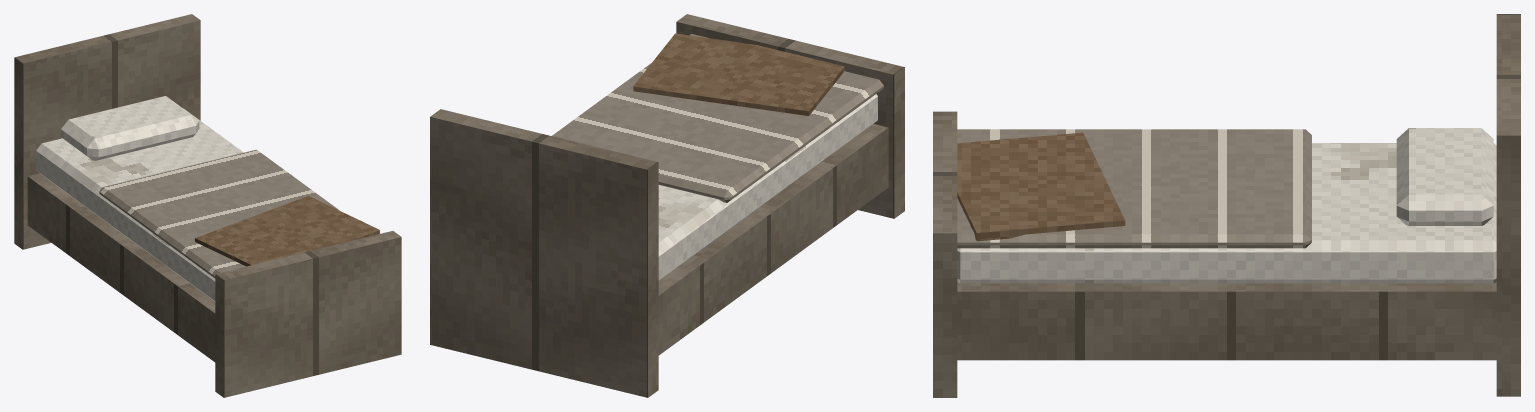
File: bed_wood.glb
The picture shows the model from 3 angles, left to right: view 1: azimuth 30°, elevation 25°; view 2: azimuth 150°, elevation 25°; view 3: azimuth 270°, elevation 25°; orthographic projection. The views are drawn at different scales.
Visible parts, largest first — view 1: body; view 2: body; view 3: body.
Part boxes in pixels (x1,y1,x2,y2): body: (14, 14, 401, 397); body: (430, 14, 904, 397); body: (933, 14, 1520, 397).
Bounding box in the file's own units: 0.95 × 0.955 × 1.94.
4 materials, 4 textured.
